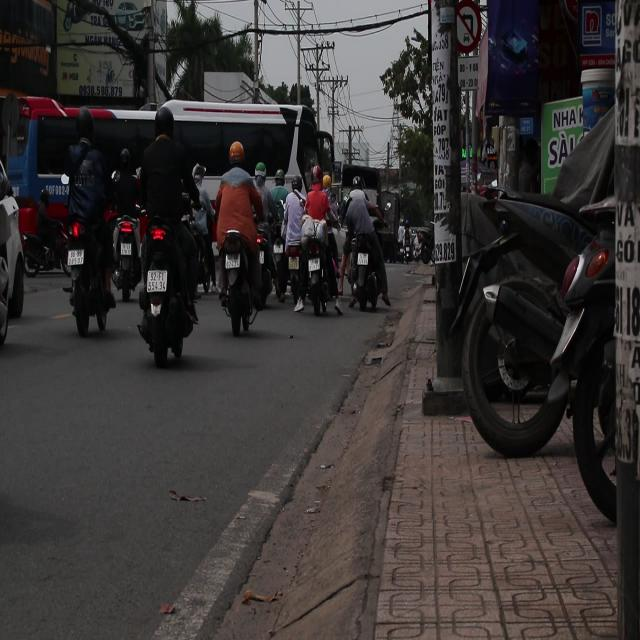bus: (0, 65, 339, 306)
motorbike: (134, 212, 200, 368), (55, 214, 116, 340), (91, 218, 150, 317), (216, 228, 266, 338), (340, 229, 392, 333), (303, 220, 344, 324), (256, 212, 292, 313), (274, 215, 307, 318)
